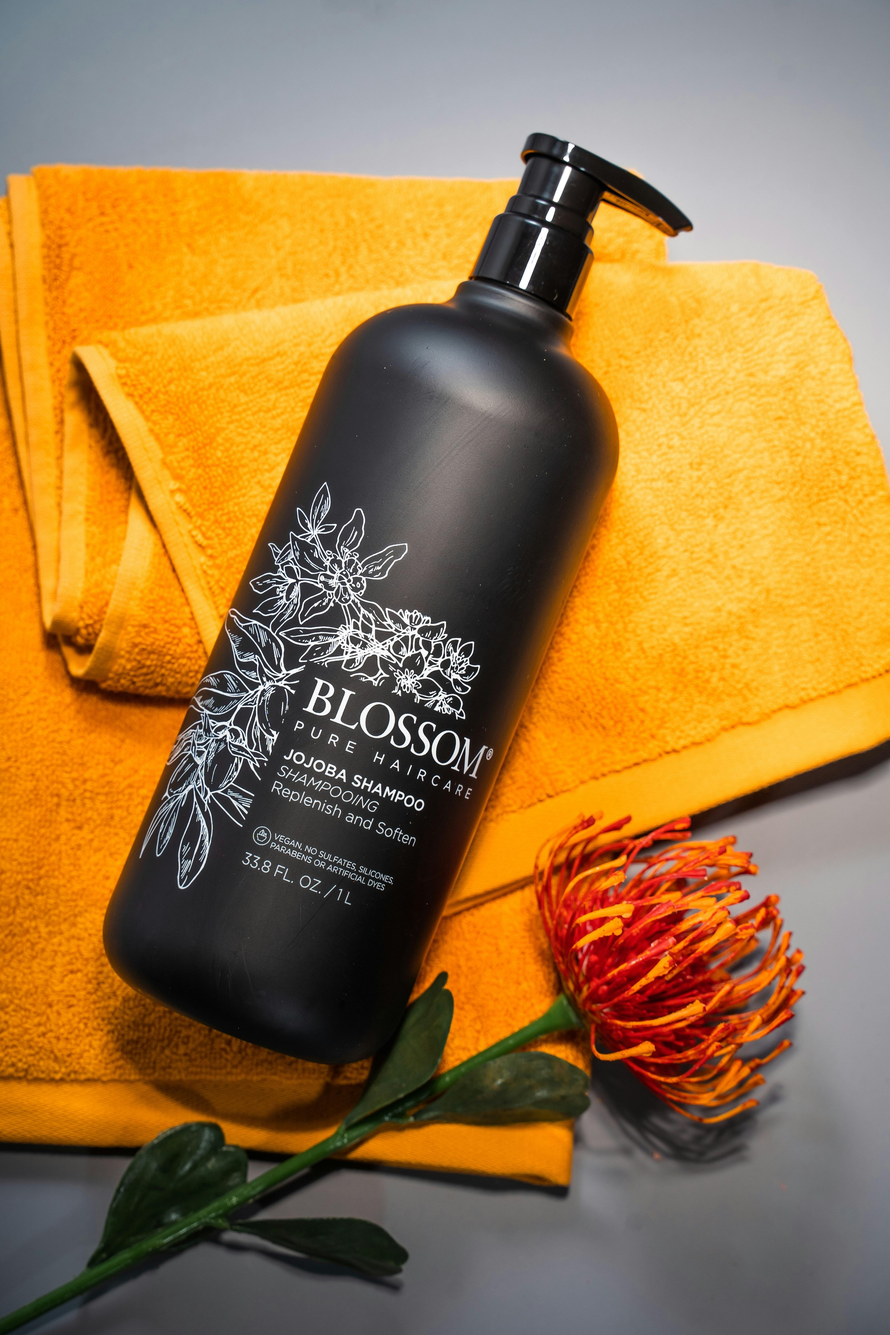Bottle-Detection: (87, 76, 743, 1128)
